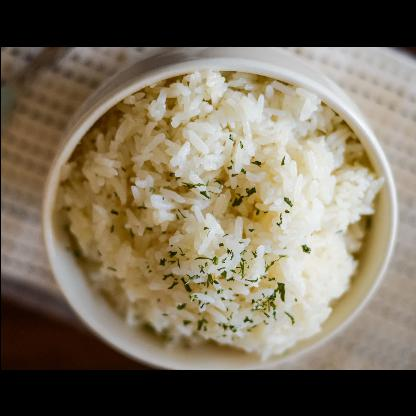white rice: (63, 75, 383, 362)
